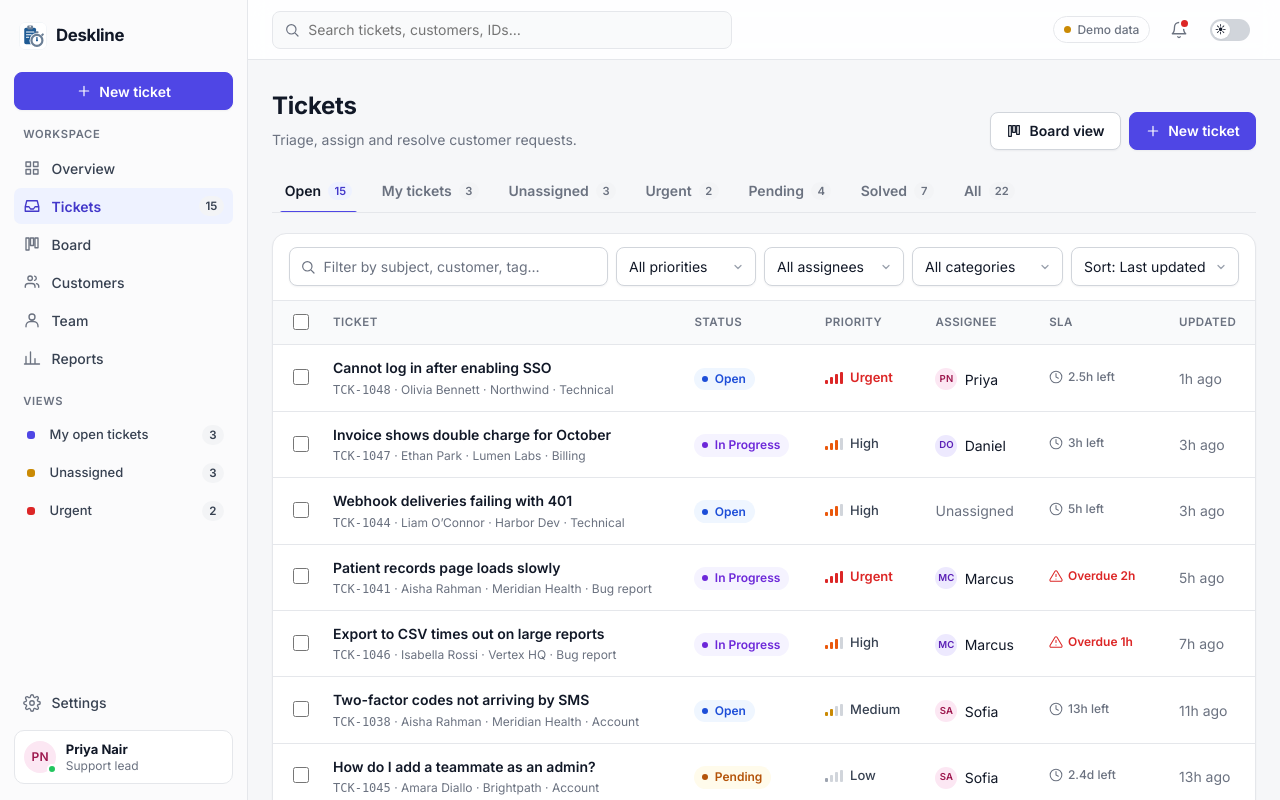
Test: App › ticket view tabs filter the list
Click the tab "Solved 7": coordinates (898, 191) [848,170,947,212]
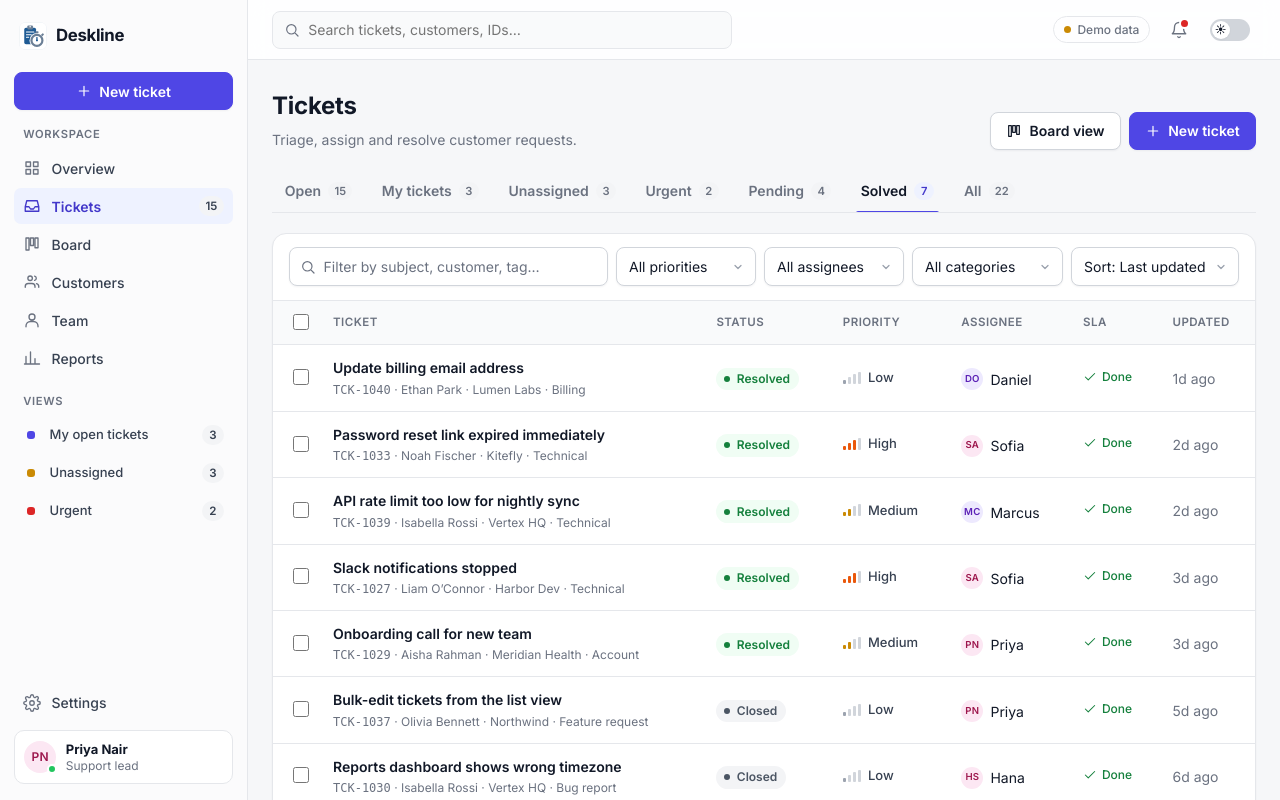
Now the text "Resolved" is shown 7 times
